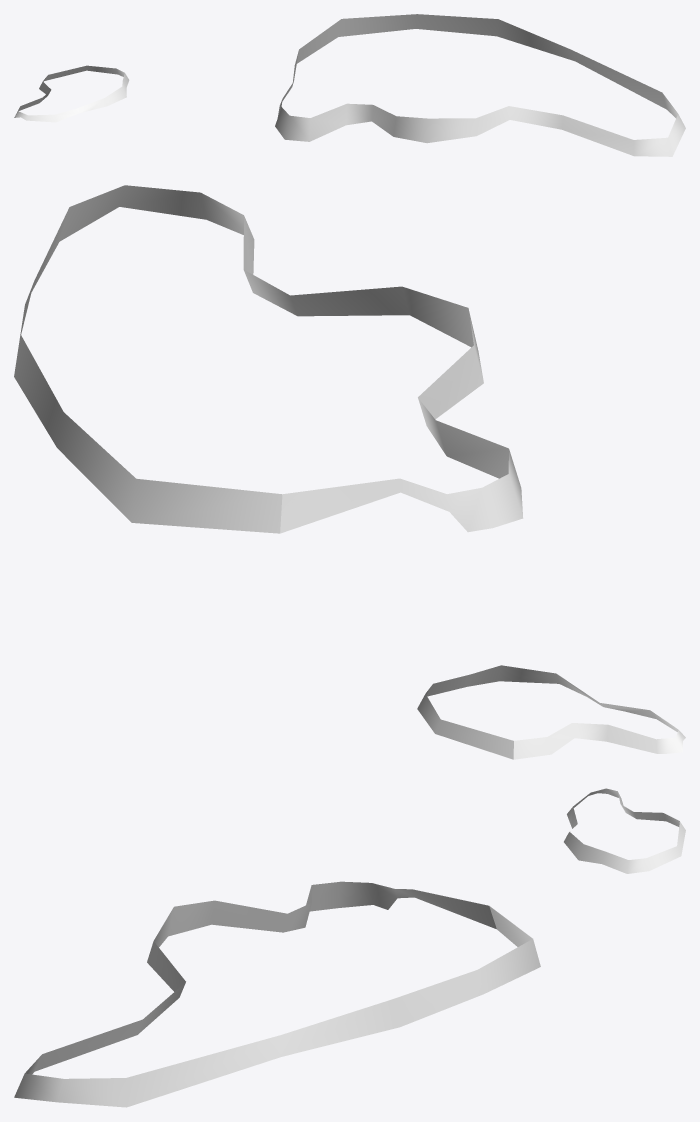
File: FP_jog_island.md.050.obj
3 renders of one model, top to bottom at view 1: azimuth 30°, elevation 25°; view 2: azimuth 150°, elevation 25°; view 3: azimuth 270°, elevation 25°, orthographic. The views are drawn at different scales.
Visible parts, largest first — view 1: FP_jog_island.mo.049; view 2: FP_jog_island.mo.049; view 3: FP_jog_island.mo.049.
Boxes of the visible parts, x1=… form: FP_jog_island.mo.049: x1=14, y1=14, x2=685, y2=156; FP_jog_island.mo.049: x1=14, y1=185, x2=685, y2=759; FP_jog_island.mo.049: x1=14, y1=788, x2=685, y2=1107.
Size of the model in its own units: 62.73 by 6.86 by 53.31.
1 material, 1 textured.
